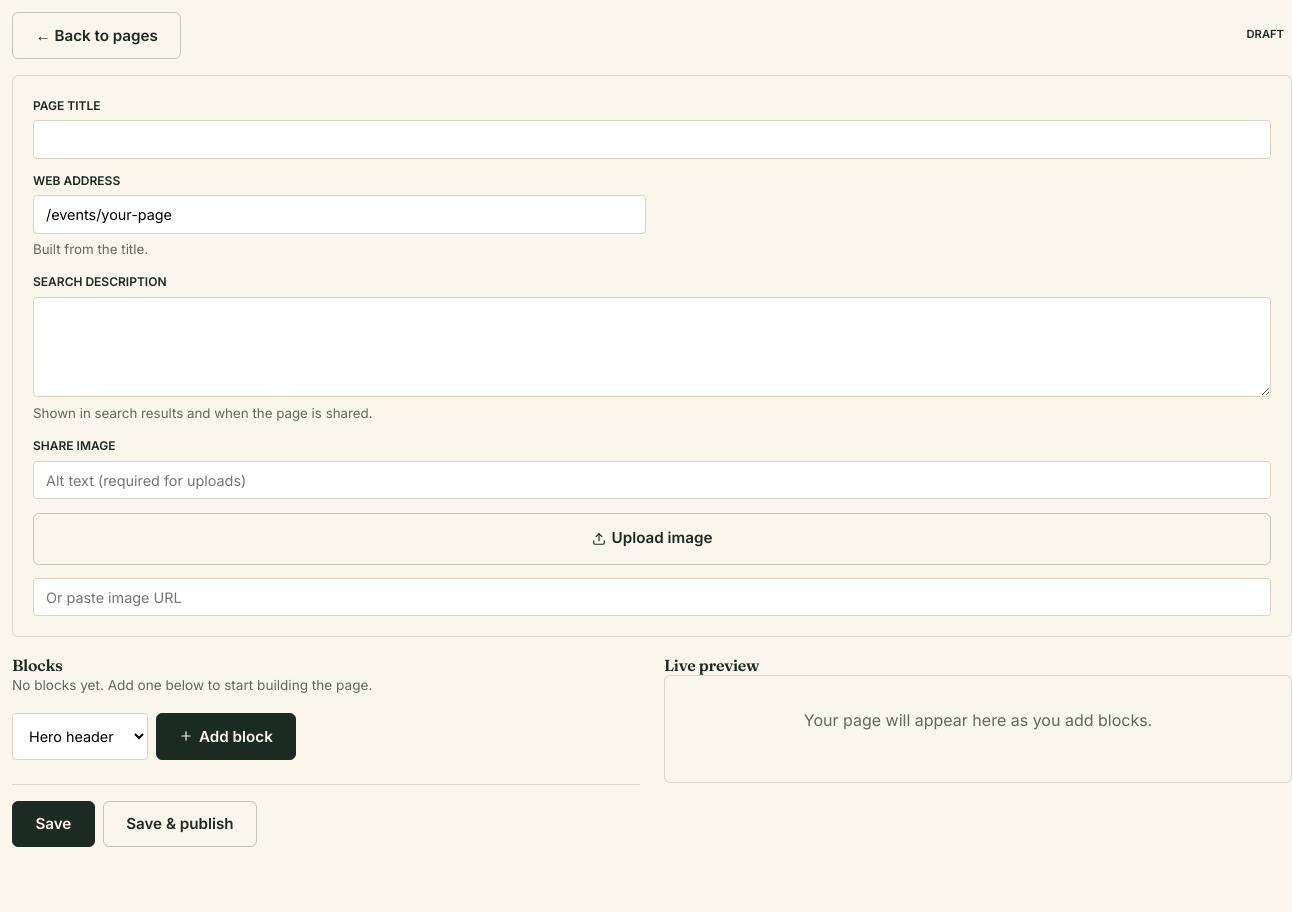
Test case: PageBuilder › refuses to save without a title
Click the button "Save" at {"x": 53, "y": 824}, box x1=12 y1=801 x2=95 y2=847
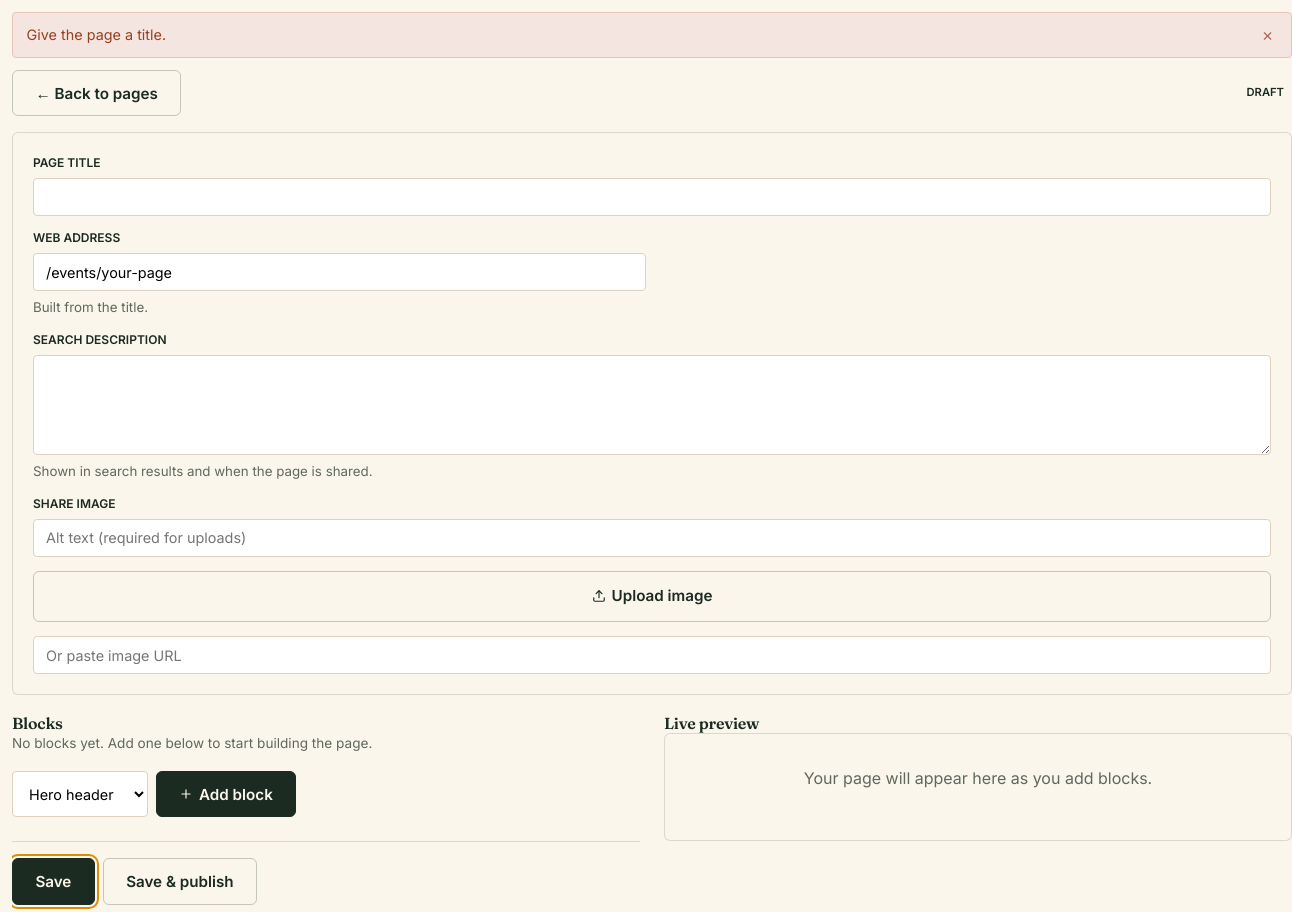
Expected: the text "Give the page a title. ×" is shown, x1=12 y1=12 x2=1291 y2=58
